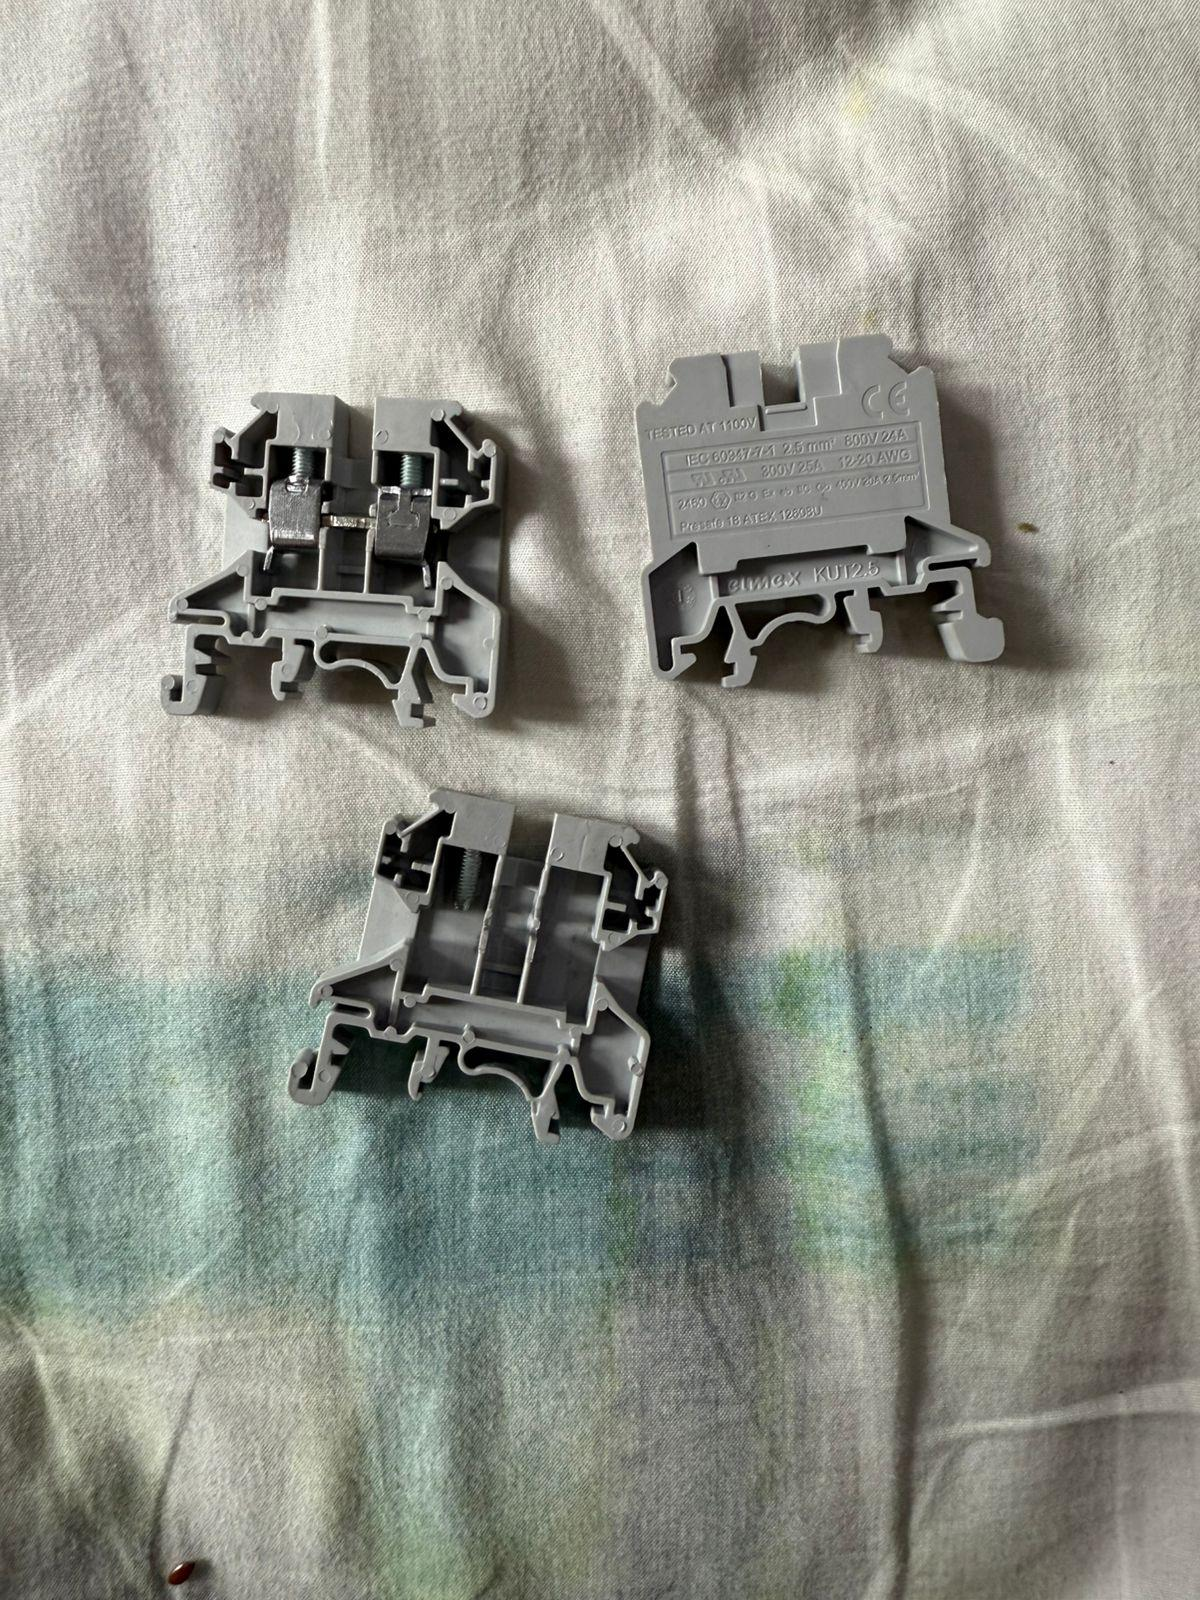Inverted: (633, 336, 1011, 682)
Pass: (156, 386, 528, 728)
Reject: (281, 779, 673, 1141)
